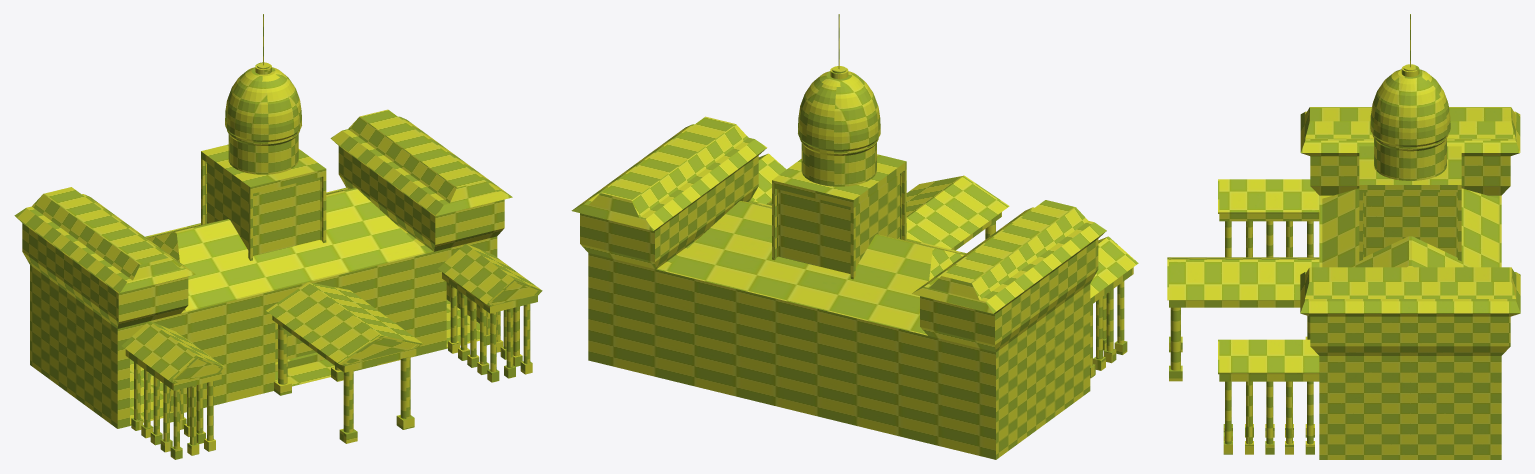
Rendered from Solbourg_Palace.fbx.
3 renders of one model, left to right at view 1: azimuth 30°, elevation 25°; view 2: azimuth 150°, elevation 25°; view 3: azimuth 270°, elevation 25°, orthographic. The views are drawn at different scales.
Parts seen in each view (by area): view 1: Bloc Central; view 2: Bloc Central; view 3: Bloc Central.
Boxes of the visible parts, x1,y1,x2,y2 form: Bloc Central: (14,14,542,459); Bloc Central: (571,14,1138,459); Bloc Central: (1167,14,1520,459).
Bounding box in the file's own units: 10345 × 8468 × 7761.
1 material, 1 textured.
